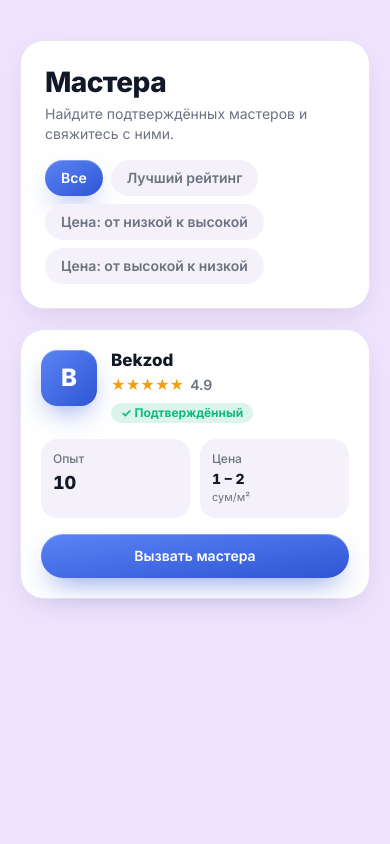
Test: UstalarPage in Russian › takes the sort group, its options and the contact form from ru.json
Expected: the element named "Сортировка" is shown, [45,160,264,284]
Expected: the button "Лучший рейтинг" is shown, [111,160,258,196]
Click the button "Вызвать мастера". click: [195, 556]
box: [41,534,349,578]
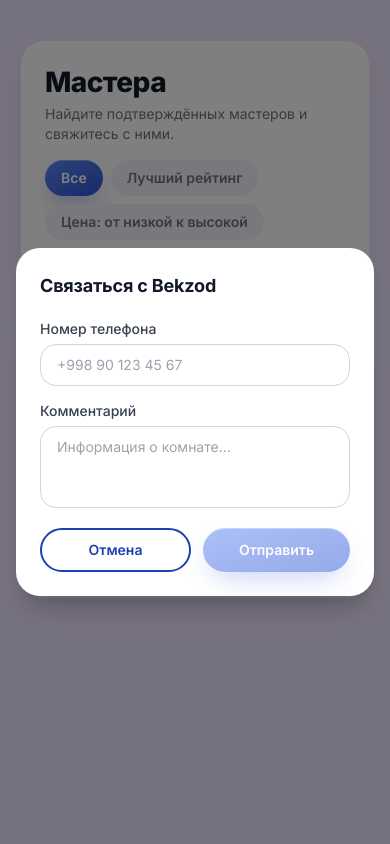
Result: the text box with placeholder "Информация о комнате..." is shown at [40,426,350,508]
Type "123" into the field with placeholder "+998 90 123 45 67". click: [195, 365]
box: [40,344,350,386]
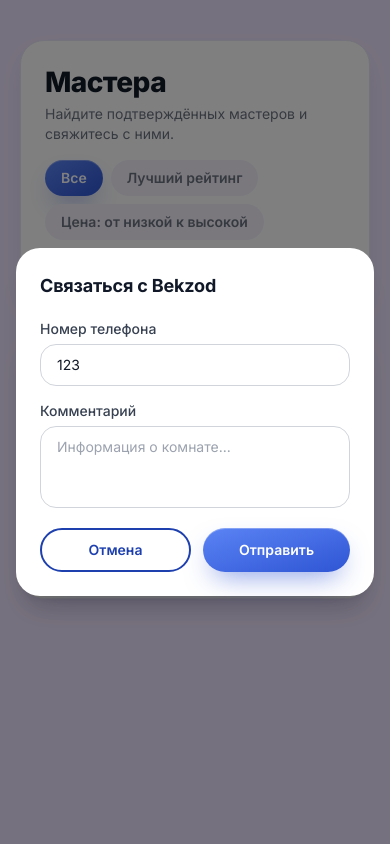
Click the button "Отправить". click: [276, 550]
box: [203,528,350,572]
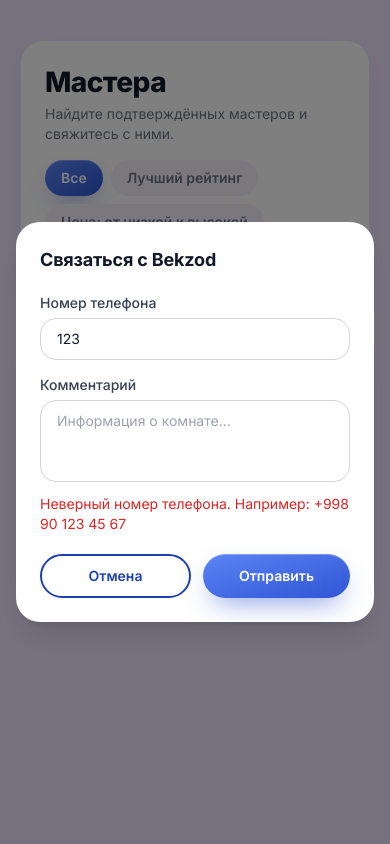
Result: the message reads "Неверный номер телефона. Например: +998 90 123 45 67" at [40,495,349,532]
